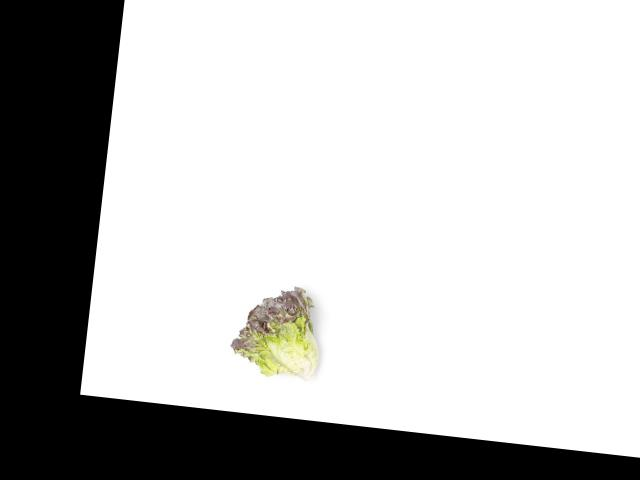lettuce: (229, 274, 327, 385)
